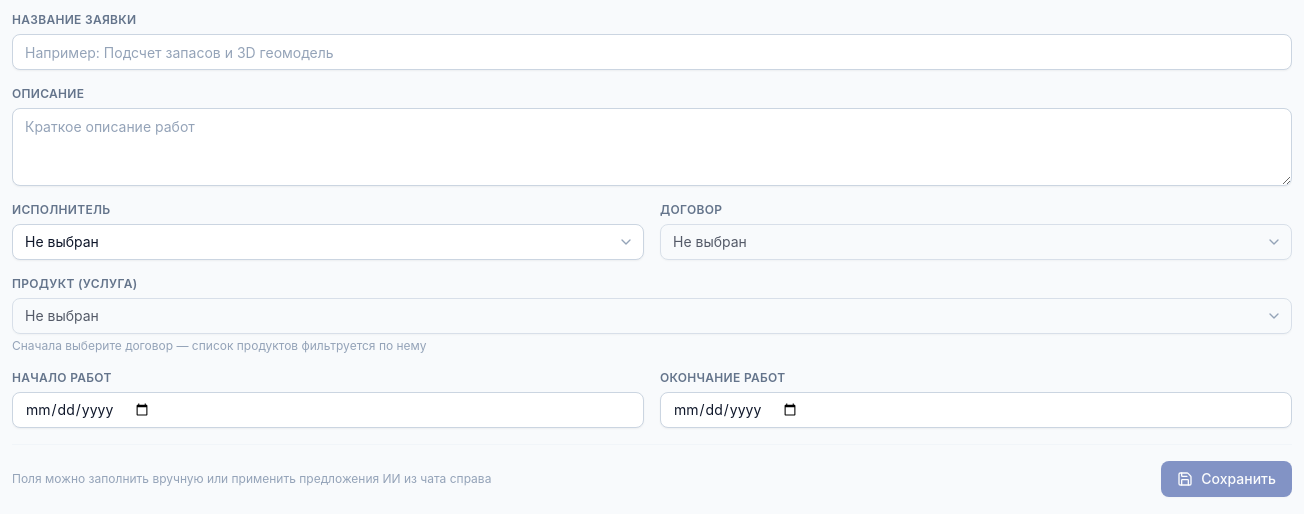
RequestHeaderForm › каскад: выбор исполнителя фильтрует договоры, договор — продукты
This screenshot has width=1304, height=514.
Expected: the dropdown labelled "Договор" is disabled, top-left (660, 224), bottom-right (1292, 260)
Select "ГеоСервис — рейтинг 5" in the dropdown labelled "Исполнитель" at [328, 242], box top-left (12, 224), bottom-right (644, 260)
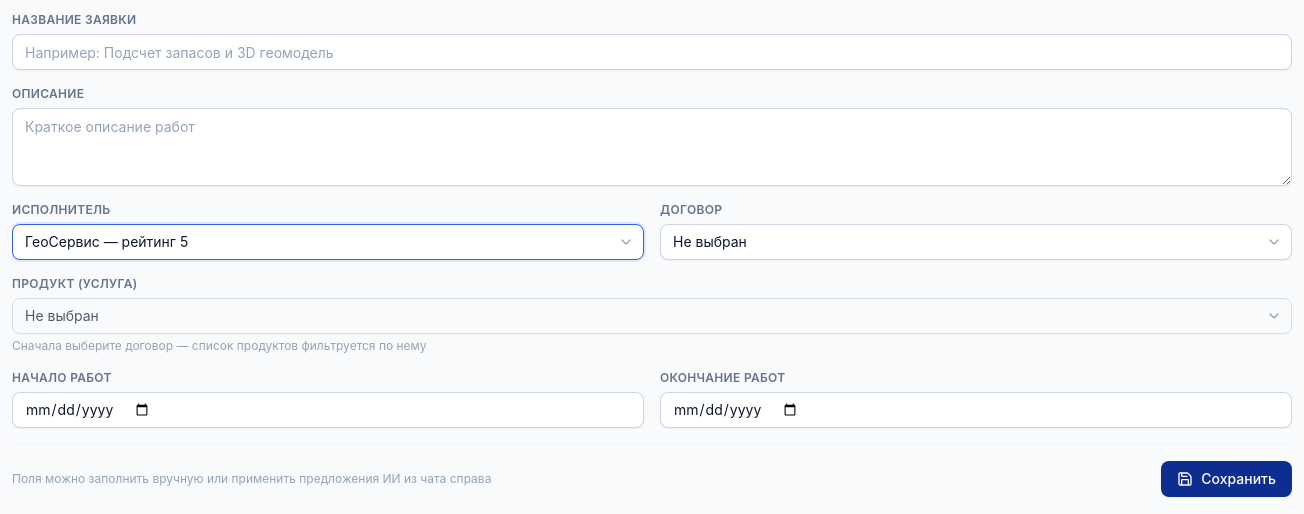
Expected: the dropdown labelled "Договор" is enabled
Select "123-ГП" in the dropdown labelled "Договор" at [976, 242], box top-left (660, 224), bottom-right (1292, 260)
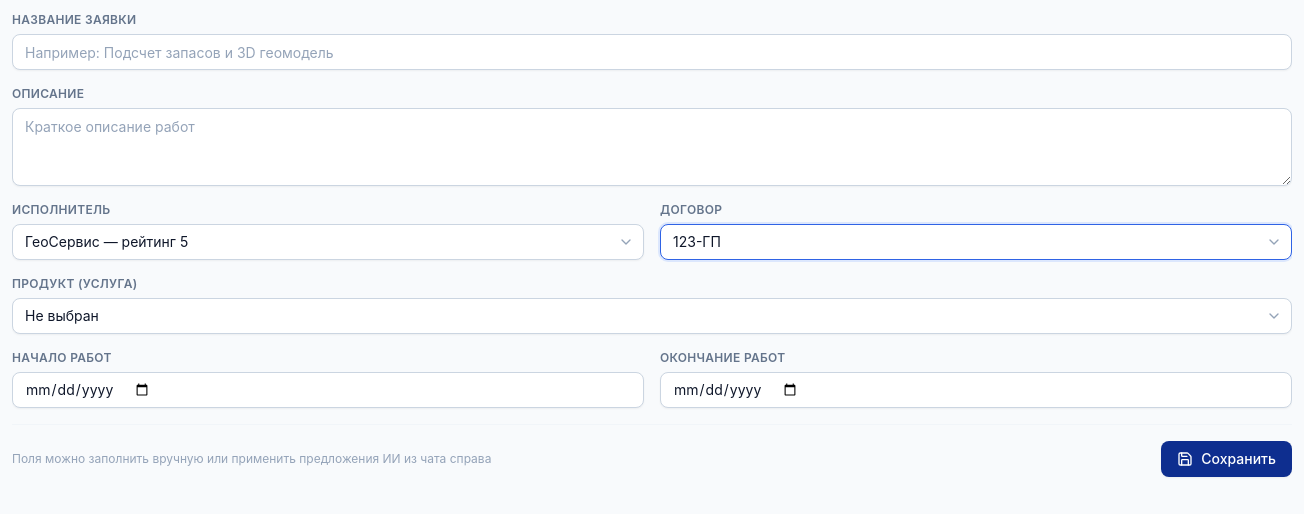
Expected: the dropdown labelled "Продукт (услуга)" is enabled, top-left (12, 298), bottom-right (1292, 334)
